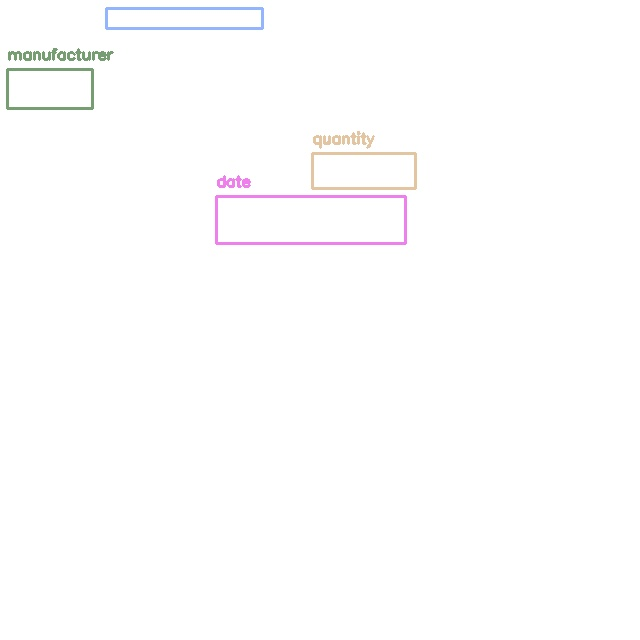MRP: (106, 8, 262, 28)
date: (216, 196, 405, 243)
manufacturer: (7, 69, 92, 108)
quantity: (312, 153, 415, 188)
